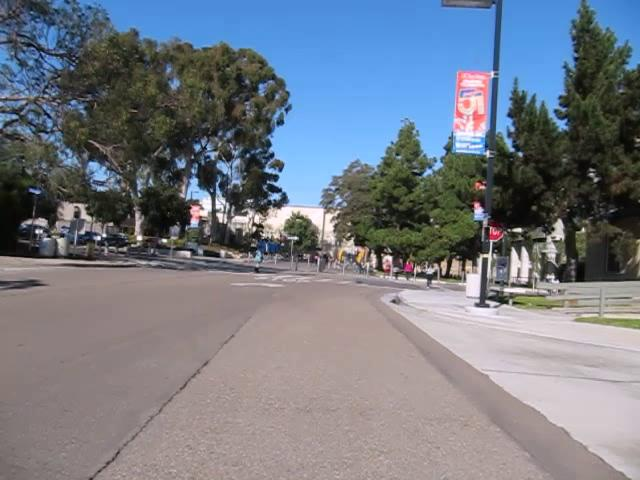stop: (481, 216, 504, 242)
